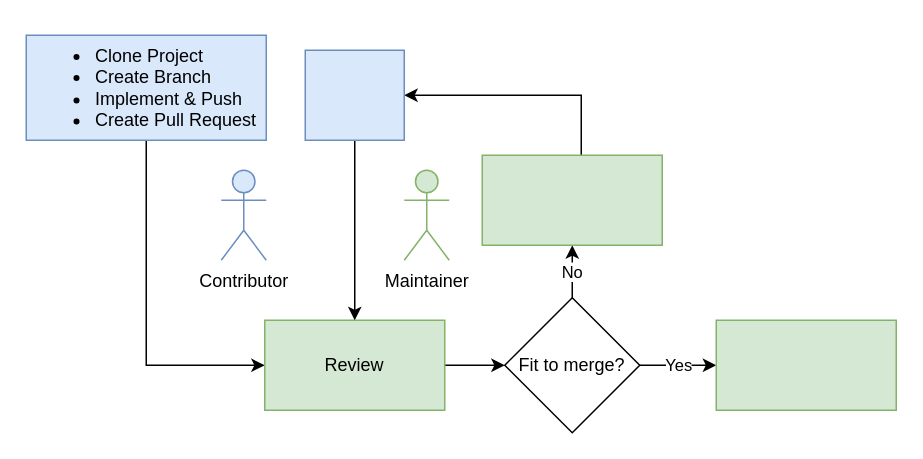
Image size: 923x459. Some labels were removed from this diagram. Here are the shapes that lost their labels. From the top down, the centre of each, then its label:
the point at 354,94: Fix
the point at 571,199: Detailed description of shortcomings
the point at 805,364: Merge
